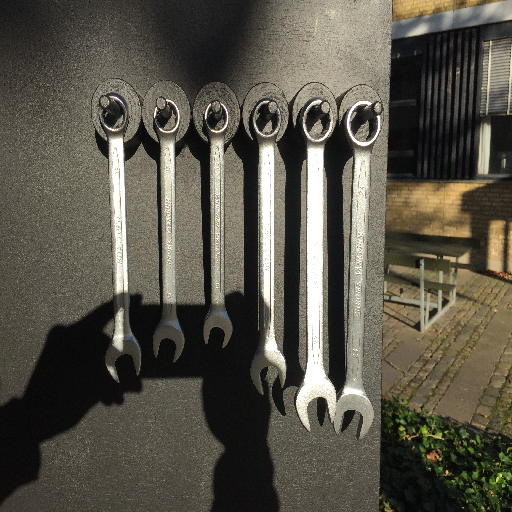bottom: (294, 374, 338, 435), (330, 387, 376, 442), (248, 343, 288, 396), (104, 333, 141, 383), (150, 316, 186, 365), (202, 306, 233, 349)
top: (341, 96, 381, 150), (298, 95, 335, 149), (96, 92, 132, 138), (249, 99, 284, 142), (152, 97, 181, 135), (202, 99, 231, 137)
